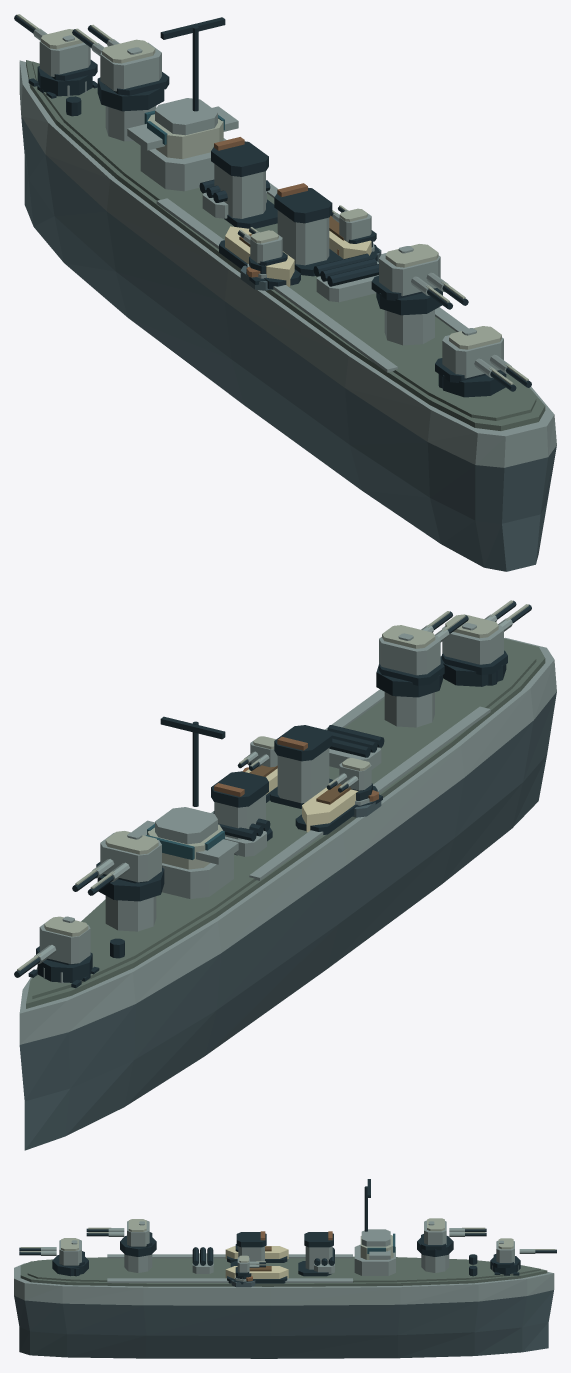
The model's file is historic-blyskawica.glb.
3 renders of one model, top to bottom at view 1: azimuth 30°, elevation 25°; view 2: azimuth 150°, elevation 25°; view 3: azimuth 270°, elevation 25°, orthographic. The views are drawn at different scales.
Visible parts, largest first — view 1: historic-blyskawica-historic-blyskawica-geometry, historic-blyskawica-part_bridge.054-geometry, historic-blyskawica-turret_main_1.043-geometry, historic-blyskawica-turret_main_2.038-geometry, historic-blyskawica-turret_main_3.022-geometry, historic-blyskawica-historic_funnel_0.055-geometry, historic-blyskawica-historic_funnel_1.030-geometry, historic-blyskawica-turret_main_0.044-geometry, historic-blyskawica-torpedo_bank_0.014-geometry, historic-blyskawica-turret_aa_aa-port.056-geometry, historic-blyskawica-turret_aa_aa-starboard.054-geometry, historic-blyskawica-torpedo_bank_1.013-geometry; view 2: historic-blyskawica-historic-blyskawica-geometry, historic-blyskawica-part_bridge.054-geometry, historic-blyskawica-turret_main_2.038-geometry, historic-blyskawica-turret_main_1.043-geometry, historic-blyskawica-turret_main_3.022-geometry, historic-blyskawica-historic_funnel_1.030-geometry, historic-blyskawica-turret_main_0.044-geometry, historic-blyskawica-historic_funnel_0.055-geometry, historic-blyskawica-torpedo_bank_0.014-geometry, historic-blyskawica-turret_aa_aa-port.056-geometry, historic-blyskawica-torpedo_bank_1.013-geometry, historic-blyskawica-turret_aa_aa-starboard.054-geometry; view 3: historic-blyskawica-historic-blyskawica-geometry, historic-blyskawica-part_bridge.054-geometry, historic-blyskawica-turret_main_1.043-geometry, historic-blyskawica-turret_main_2.038-geometry, historic-blyskawica-turret_main_3.022-geometry, historic-blyskawica-historic_funnel_0.055-geometry, historic-blyskawica-turret_main_0.044-geometry, historic-blyskawica-historic_funnel_1.030-geometry, historic-blyskawica-torpedo_bank_0.014-geometry, historic-blyskawica-turret_aa_aa-starboard.054-geometry, historic-blyskawica-torpedo_bank_1.013-geometry.
Part boxes in pixels (x1,y1,x2,y2): historic-blyskawica-historic-blyskawica-geometry: (19, 60, 556, 571); historic-blyskawica-part_bridge.054-geometry: (127, 17, 238, 191); historic-blyskawica-turret_main_1.043-geometry: (72, 24, 169, 111); historic-blyskawica-turret_main_2.038-geometry: (371, 244, 468, 315); historic-blyskawica-turret_main_3.022-geometry: (435, 326, 531, 397); historic-blyskawica-historic_funnel_0.055-geometry: (211, 137, 277, 228); historic-blyskawica-historic_funnel_1.030-geometry: (274, 183, 341, 276); historic-blyskawica-turret_main_0.044-geometry: (14, 14, 97, 96); historic-blyskawica-torpedo_bank_0.014-geometry: (313, 253, 378, 302); historic-blyskawica-turret_aa_aa-port.056-geometry: (237, 227, 287, 273); historic-blyskawica-turret_aa_aa-starboard.054-geometry: (331, 205, 376, 247); historic-blyskawica-torpedo_bank_1.013-geometry: (199, 179, 270, 218); historic-blyskawica-historic-blyskawica-geometry: (19, 637, 556, 1150); historic-blyskawica-part_bridge.054-geometry: (132, 716, 238, 898); historic-blyskawica-turret_main_2.038-geometry: (376, 611, 468, 697); historic-blyskawica-turret_main_1.043-geometry: (72, 831, 164, 901); historic-blyskawica-turret_main_3.022-geometry: (440, 600, 531, 686); historic-blyskawica-historic_funnel_1.030-geometry: (270, 725, 332, 808); historic-blyskawica-turret_main_0.044-geometry: (14, 916, 92, 982); historic-blyskawica-historic_funnel_0.055-geometry: (211, 771, 272, 855); historic-blyskawica-torpedo_bank_0.014-geometry: (327, 725, 384, 769); historic-blyskawica-turret_aa_aa-port.056-geometry: (326, 758, 372, 800); historic-blyskawica-torpedo_bank_1.013-geometry: (213, 811, 270, 856); historic-blyskawica-turret_aa_aa-starboard.054-geometry: (237, 736, 277, 770); historic-blyskawica-historic-blyskawica-geometry: (14, 1246, 554, 1358); historic-blyskawica-part_bridge.054-geometry: (354, 1179, 395, 1275); historic-blyskawica-turret_main_1.043-geometry: (417, 1218, 486, 1256); historic-blyskawica-turret_main_2.038-geometry: (86, 1219, 156, 1256); historic-blyskawica-turret_main_3.022-geometry: (19, 1238, 88, 1276); historic-blyskawica-historic_funnel_0.055-geometry: (298, 1231, 333, 1276); historic-blyskawica-turret_main_0.044-geometry: (490, 1238, 556, 1274); historic-blyskawica-historic_funnel_1.030-geometry: (230, 1231, 266, 1267); historic-blyskawica-torpedo_bank_0.014-geometry: (192, 1247, 213, 1273); historic-blyskawica-turret_aa_aa-starboard.054-geometry: (235, 1255, 265, 1279); historic-blyskawica-torpedo_bank_1.013-geometry: (314, 1247, 334, 1273).
Size of the model in its own units: 0.6028 by 1.35 by 4.13.
